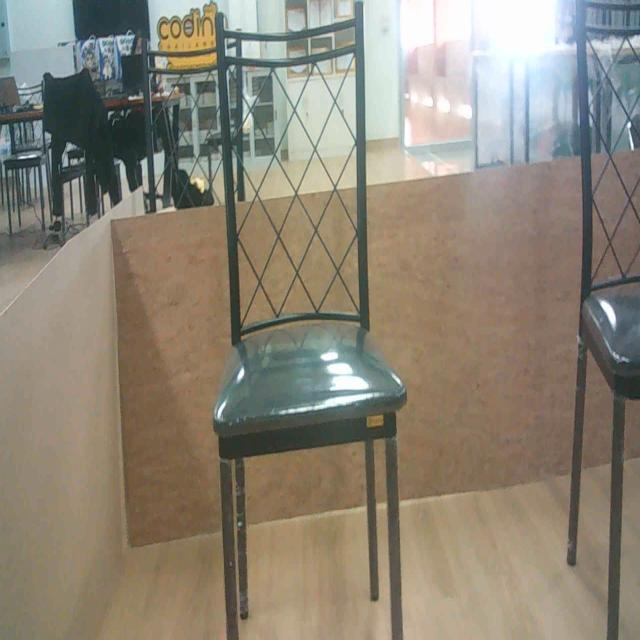emtpy: (203, 0, 415, 640)
